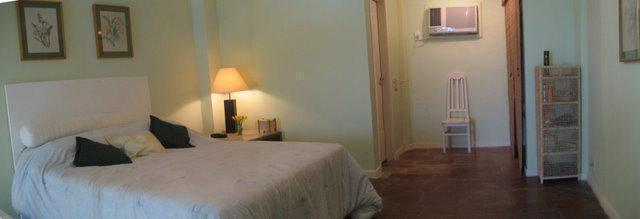Cama: (5, 76, 361, 212)
Puerta: (370, 5, 397, 170)
